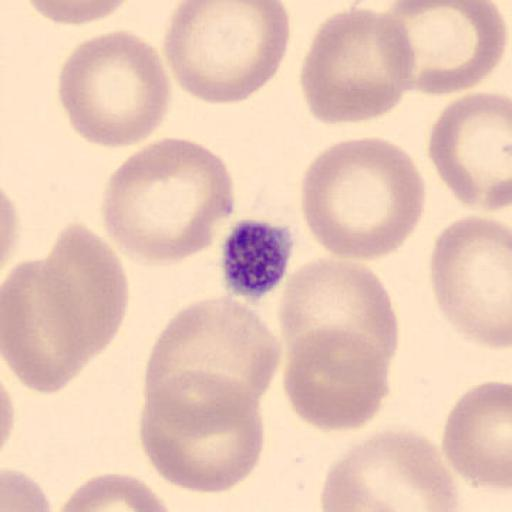Platelet: (218, 216, 296, 304)
RBC: (101, 136, 237, 266), (137, 366, 267, 496), (300, 136, 428, 263), (143, 293, 282, 408), (300, 6, 418, 127), (57, 28, 172, 150), (276, 255, 400, 368), (162, 0, 292, 107), (318, 427, 464, 512), (282, 323, 392, 434), (2, 258, 90, 396), (42, 222, 130, 358), (387, 0, 508, 97), (428, 213, 512, 351), (426, 89, 512, 210), (441, 379, 512, 491), (55, 471, 174, 512), (25, 0, 136, 27), (2, 467, 53, 512), (0, 359, 18, 458), (0, 186, 20, 270), (0, 380, 17, 456)
